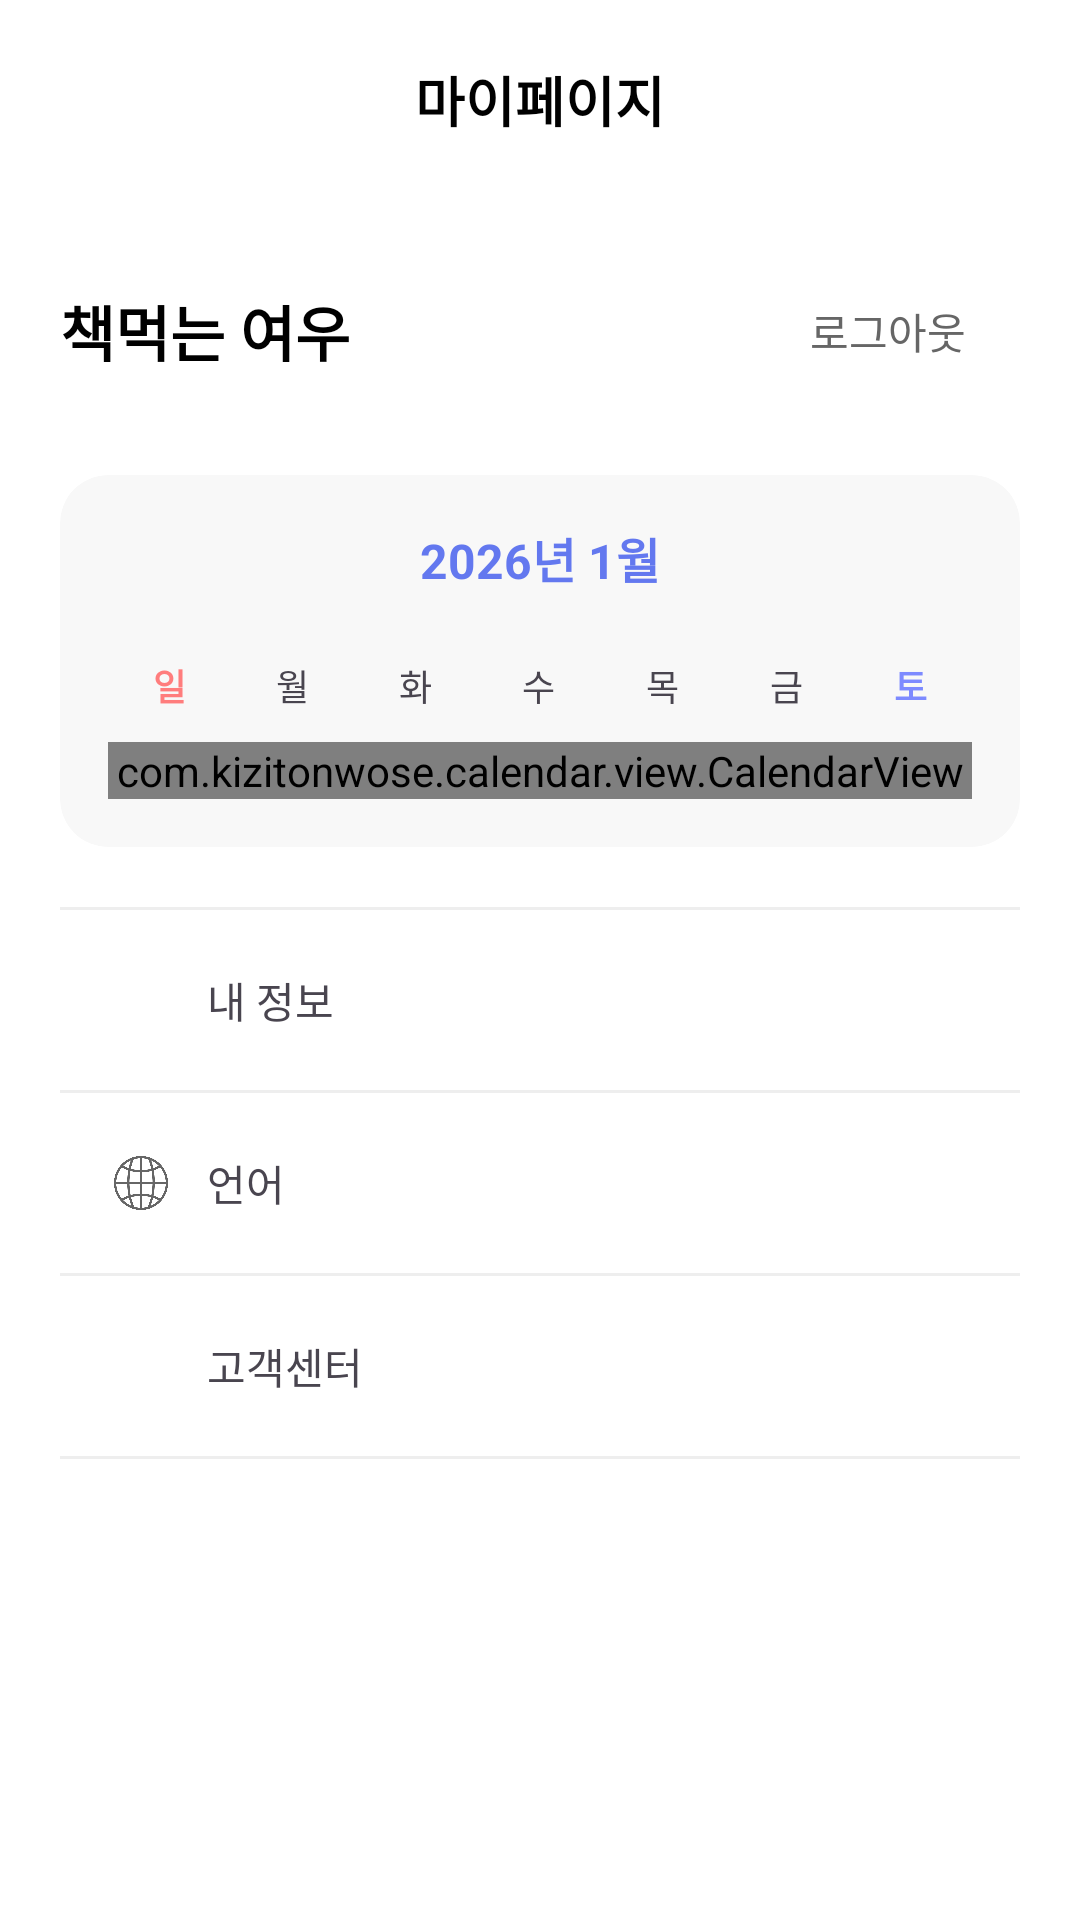

Where icons sit on this 1080 x 1920 app screen, as bbox=(x1, y1, x2, y2):
globe: bbox=(114, 1156, 168, 1210)
